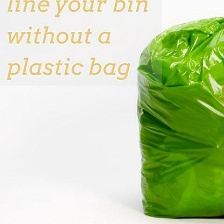plastic_bag: (135, 14, 223, 220)
